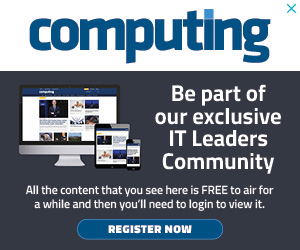fake_button: (71, 214, 228, 244)
